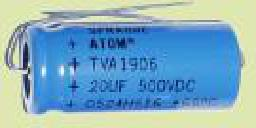Electrolytic-Capacitor: (4, 7, 248, 117)
